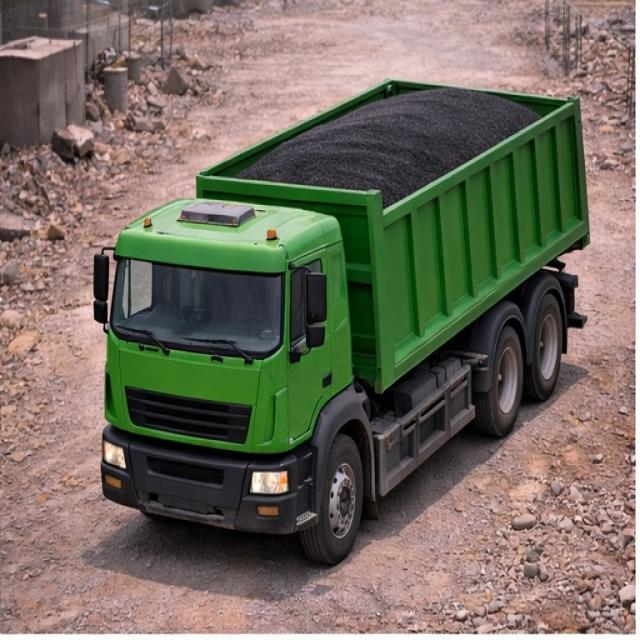trailer: (193, 76, 584, 198)
truck: (85, 64, 603, 530)
